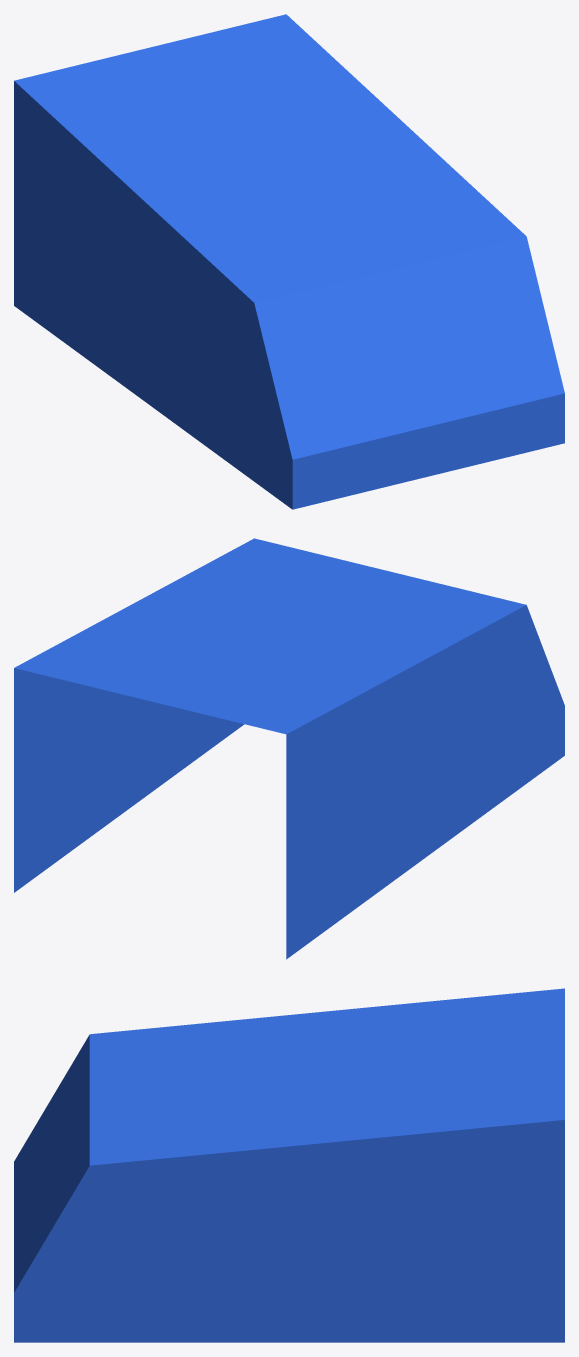
File: carPoliceSirenBlue.fbx
The picture shows the model from 3 angles, top to bottom: view 1: azimuth 30°, elevation 25°; view 2: azimuth 150°, elevation 25°; view 3: azimuth 270°, elevation 25°; orthographic projection.
Visible parts, largest first — view 1: carPoliceSirenBlue; view 2: carPoliceSirenBlue; view 3: carPoliceSirenBlue.
Part boxes in pixels (x1=…): carPoliceSirenBlue: x1=14, y1=14, x2=564, y2=509; carPoliceSirenBlue: x1=14, y1=538, x2=564, y2=959; carPoliceSirenBlue: x1=14, y1=988, x2=564, y2=1342.
Bounding box in the file's own units: 56.31 × 25.1 × 31.79.
